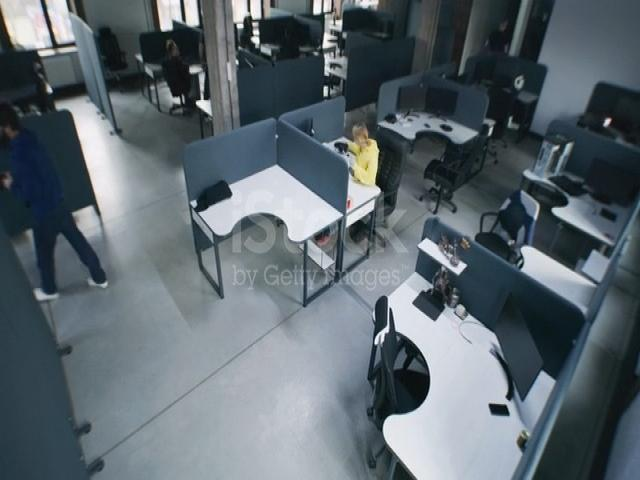empty chair: (354, 282, 416, 466), (480, 179, 545, 267), (422, 124, 460, 220), (92, 8, 128, 94), (483, 74, 512, 162), (319, 44, 354, 98), (26, 51, 58, 110)
occupiedchair: (334, 96, 411, 222), (158, 19, 209, 138), (572, 84, 640, 123)
